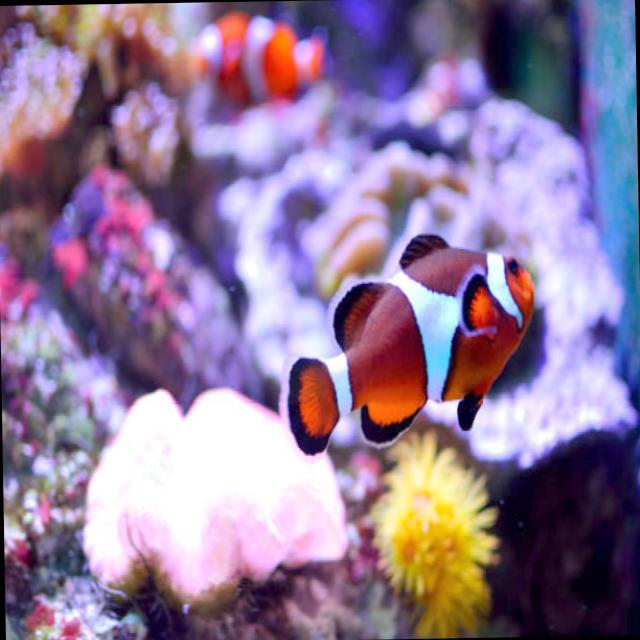ClownFish: (268, 228, 534, 459), (182, 13, 330, 108)
